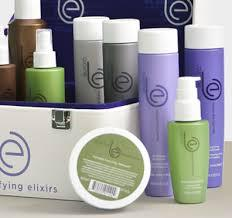Container for household chemicals: (133, 31, 222, 208), (2, 6, 139, 113)
